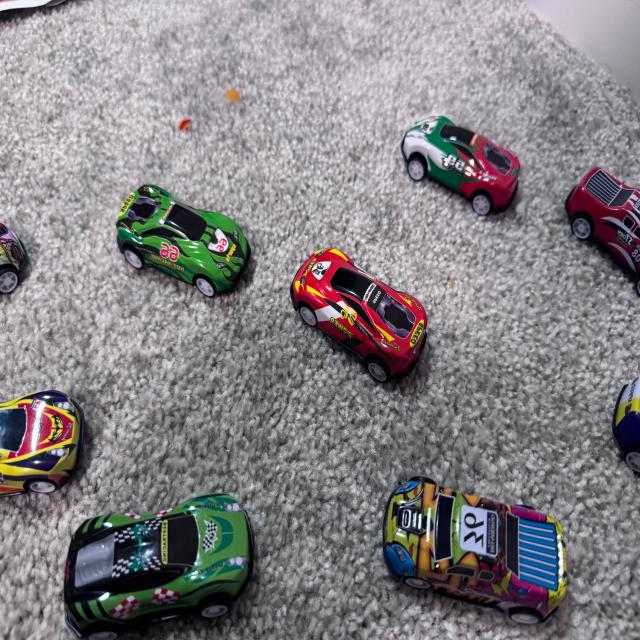Car: (347, 466, 610, 634), (44, 470, 268, 640), (115, 138, 266, 312), (286, 221, 442, 383), (370, 90, 540, 230), (551, 154, 640, 328), (0, 396, 132, 506)
